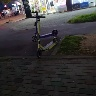beam: (28, 10, 60, 42)
gcooter: (28, 14, 61, 59)
